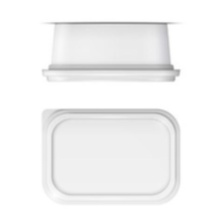plastic_box: (36, 102, 185, 213), (35, 16, 184, 90)
